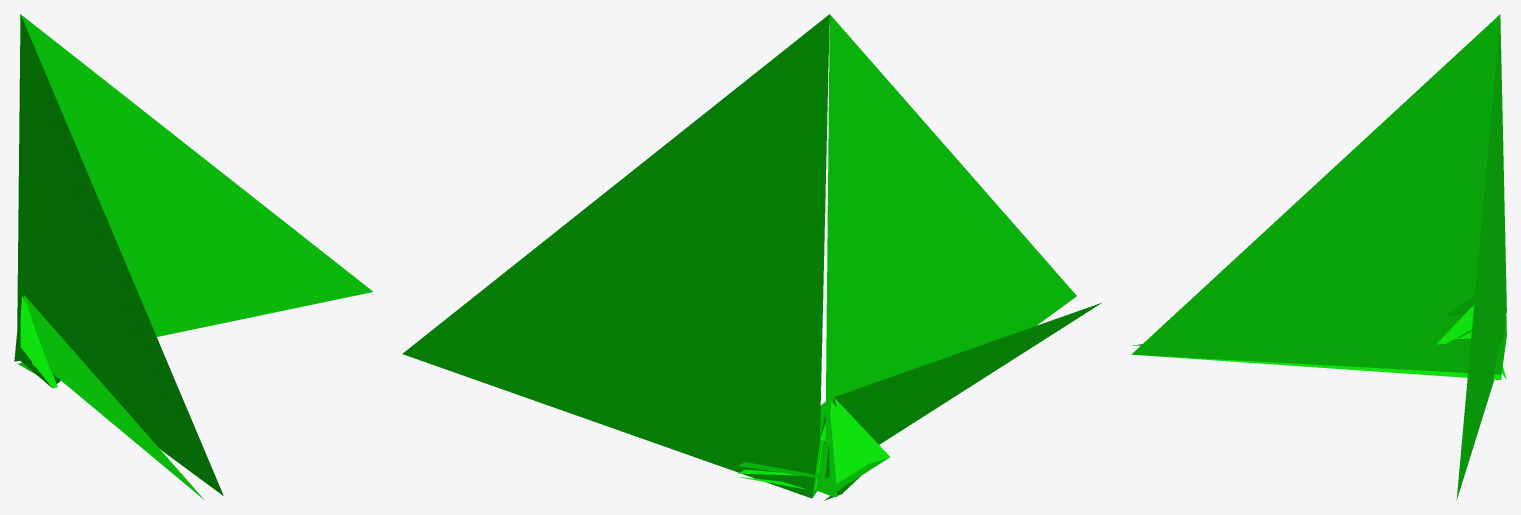
Rendered from building.fbx.
3 renders of one model, left to right at view 1: azimuth 30°, elevation 25°; view 2: azimuth 150°, elevation 25°; view 3: azimuth 270°, elevation 25°, orthographic. The views are drawn at different scales.
Visible parts, largest first — view 1: building; view 2: building; view 3: building.
Part boxes in pixels (<box>): building: <box>14,14,373,499</box>; building: <box>402,14,1101,500</box>; building: <box>1131,14,1506,499</box>.
Size of the model in its own units: 635 by 635 by 635.
